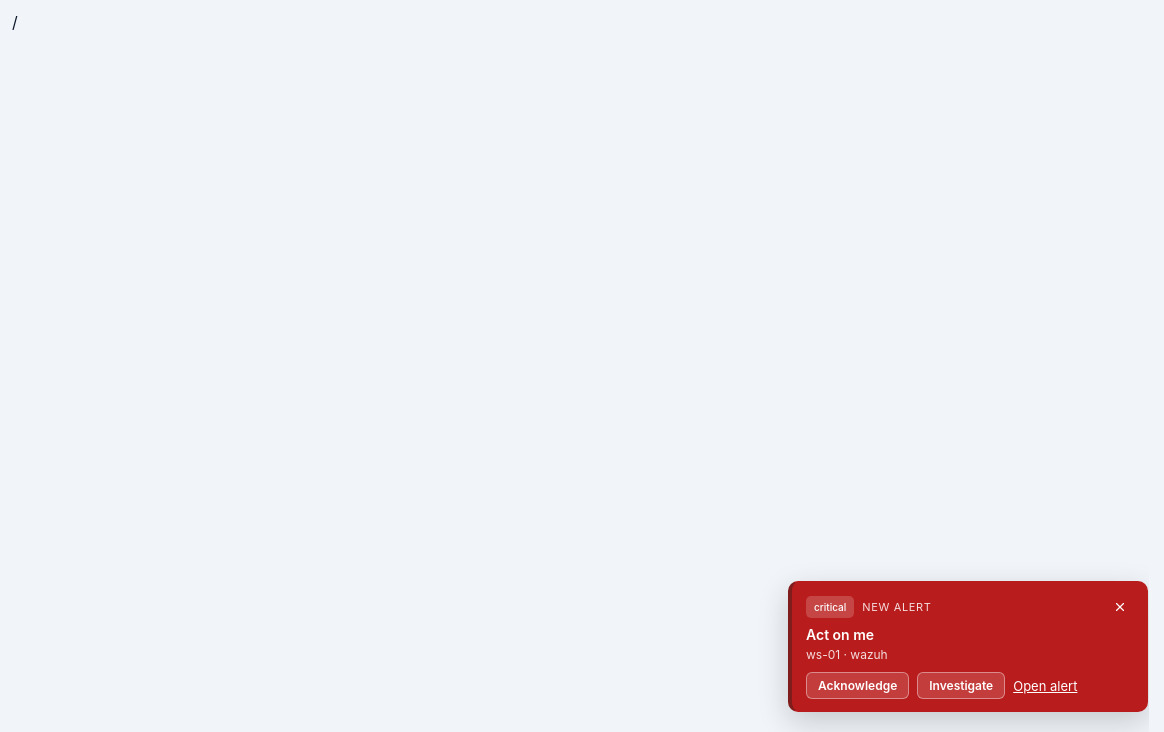
Scenario: acknowledges an alert straight from the pop-up
Expected: the text "Act on me" is shown, [806,626,874,643]
Click the button "Acknowledge" at (858, 686), box [806,672,909,699]
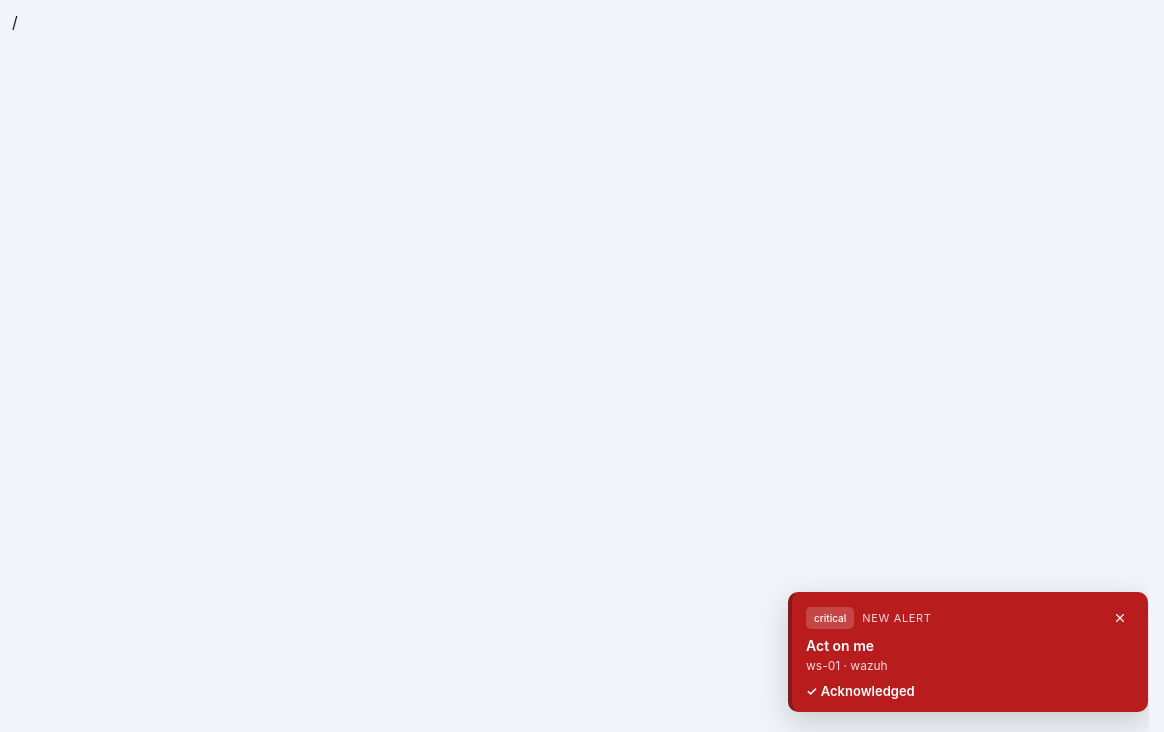
Expected: the text with test id "where" reads "/", [12,12,18,32]
Now the text "Acknowledged" is shown, box [806,683,915,699]
